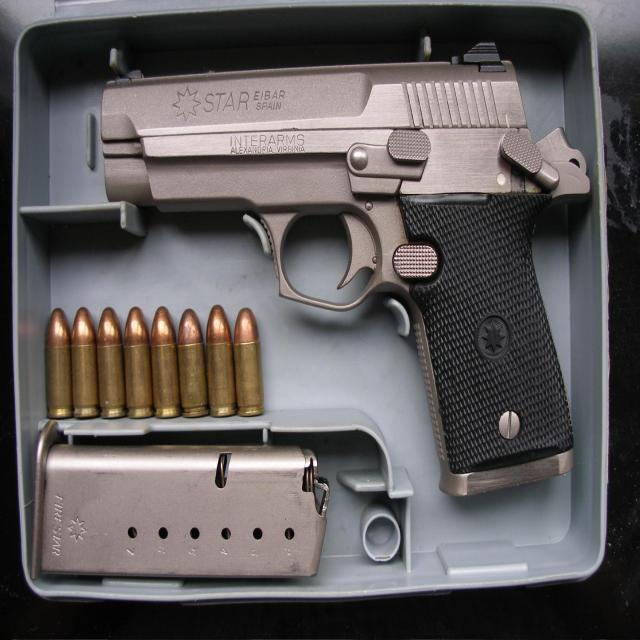pistol: (94, 59, 590, 492)
